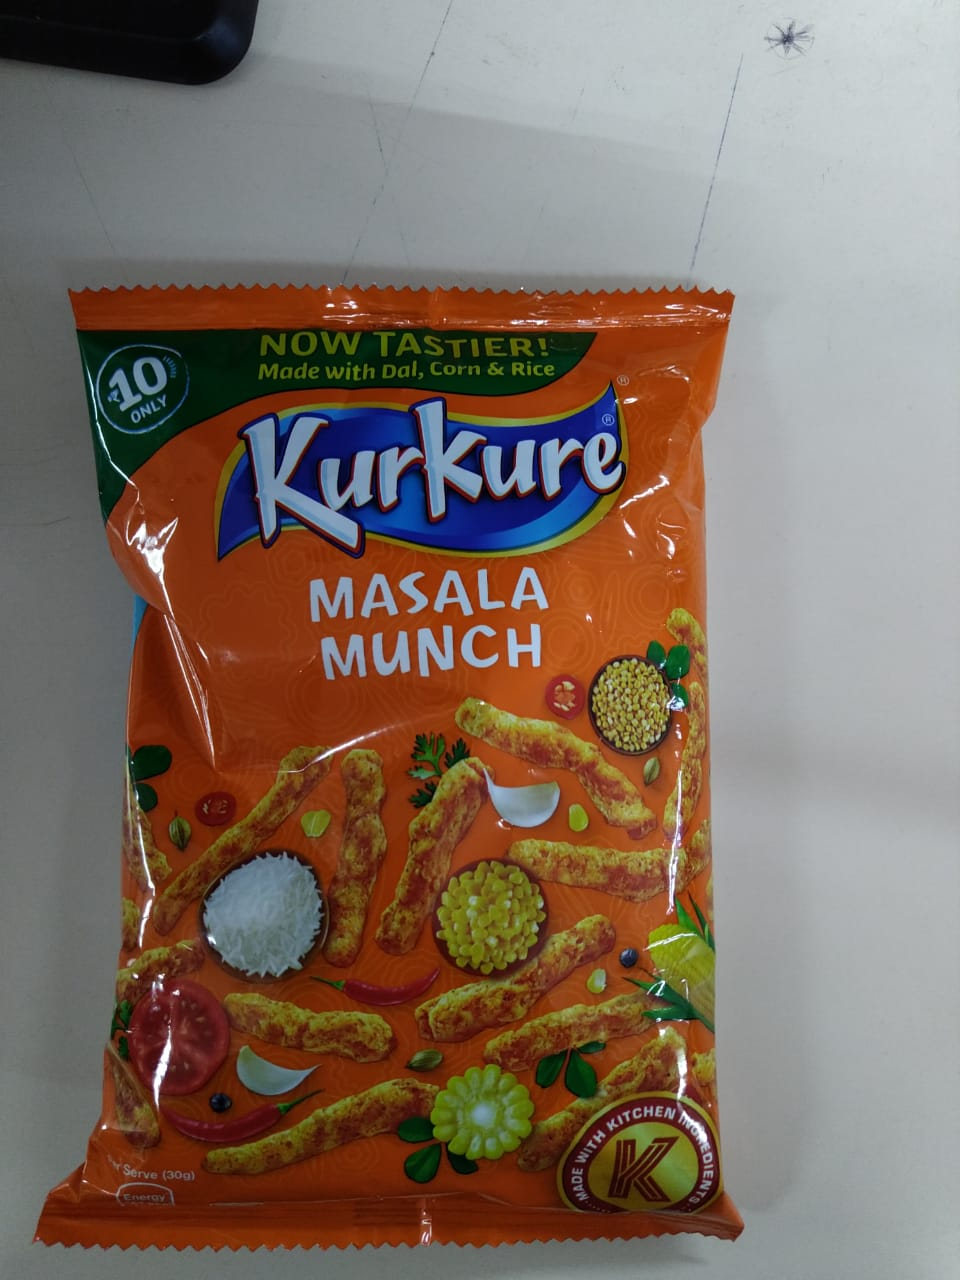kurkure: (206, 375, 637, 565), (386, 362, 645, 535), (221, 383, 466, 535), (316, 405, 584, 541)
plastic: (35, 262, 757, 1261)
wrapper: (65, 271, 755, 1253)
